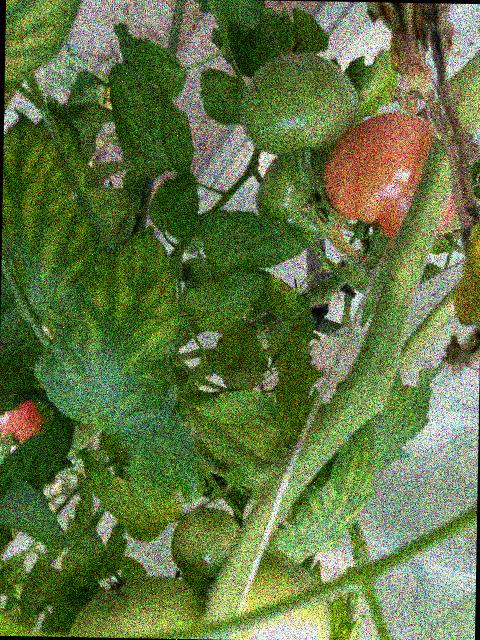b_green: (238, 50, 359, 157), (224, 551, 332, 640), (254, 146, 352, 240), (68, 574, 207, 639), (170, 507, 240, 579)
b_half_ripened: (323, 110, 467, 243)
